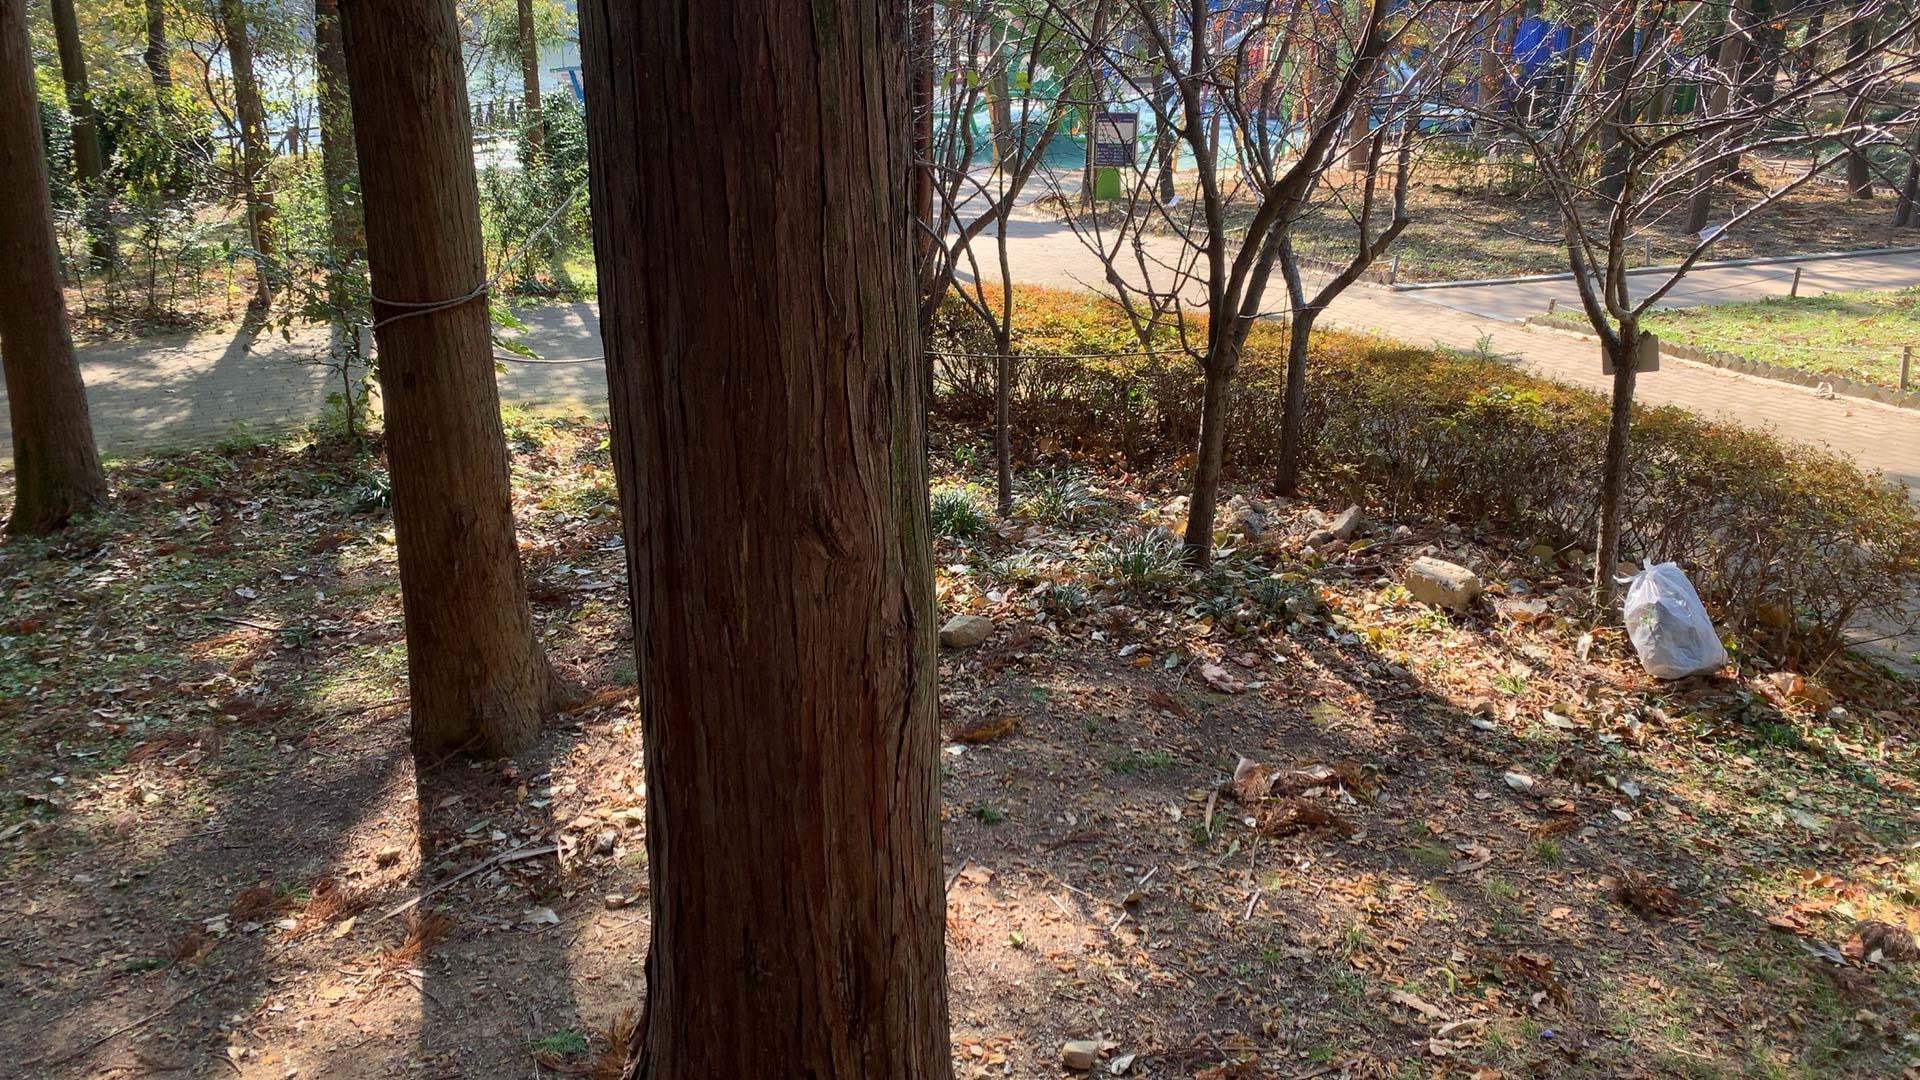white_bag: (1614, 549, 1741, 695)
